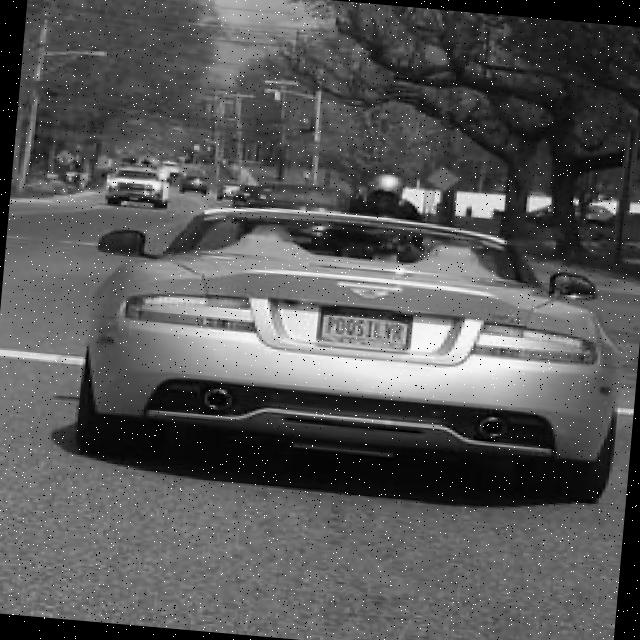Autre: (316, 306, 428, 356)
